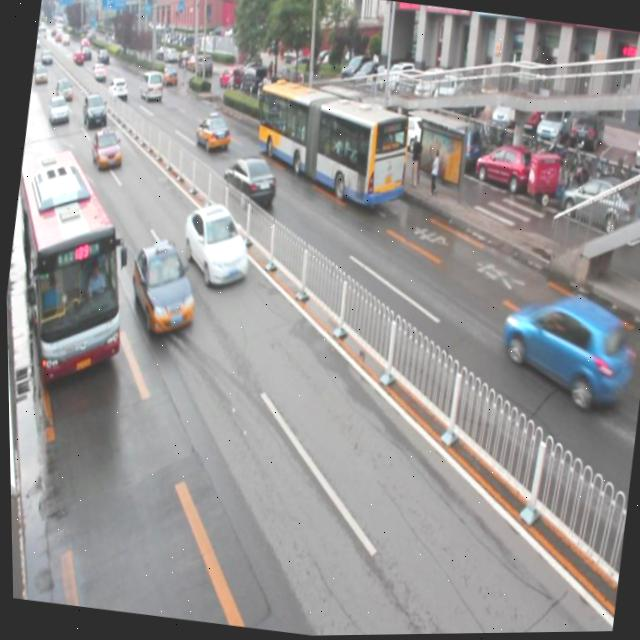car: (491, 291, 631, 418), (126, 236, 203, 338), (174, 199, 256, 294), (219, 151, 280, 210), (87, 123, 127, 175), (193, 109, 233, 155)
van: (3, 147, 145, 393), (247, 75, 418, 217)
